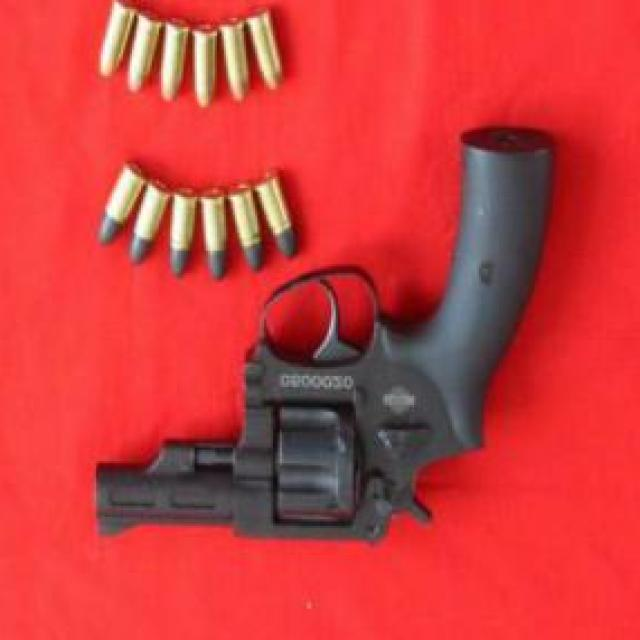pistol: (94, 126, 553, 546)
